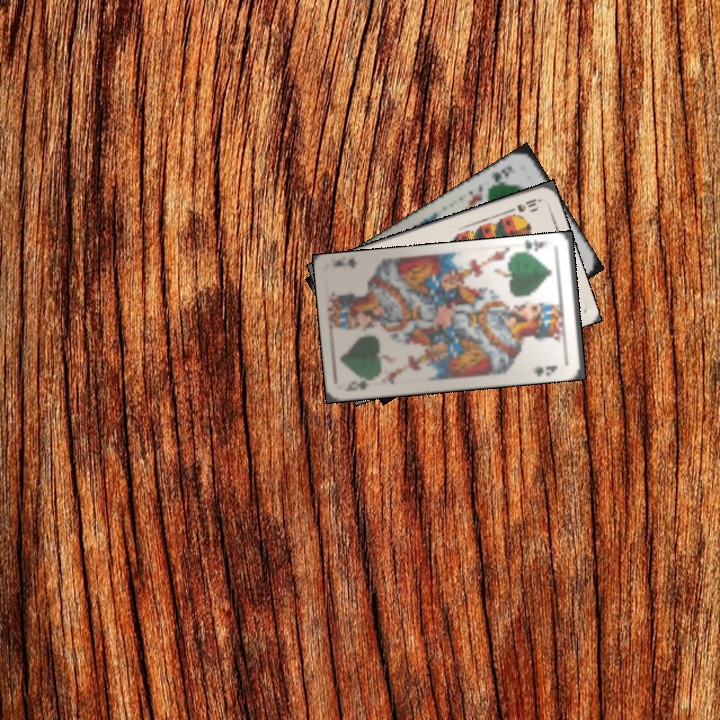GK: (487, 161, 517, 190), (517, 237, 549, 258), (341, 376, 372, 394)
S10: (504, 194, 543, 215)
